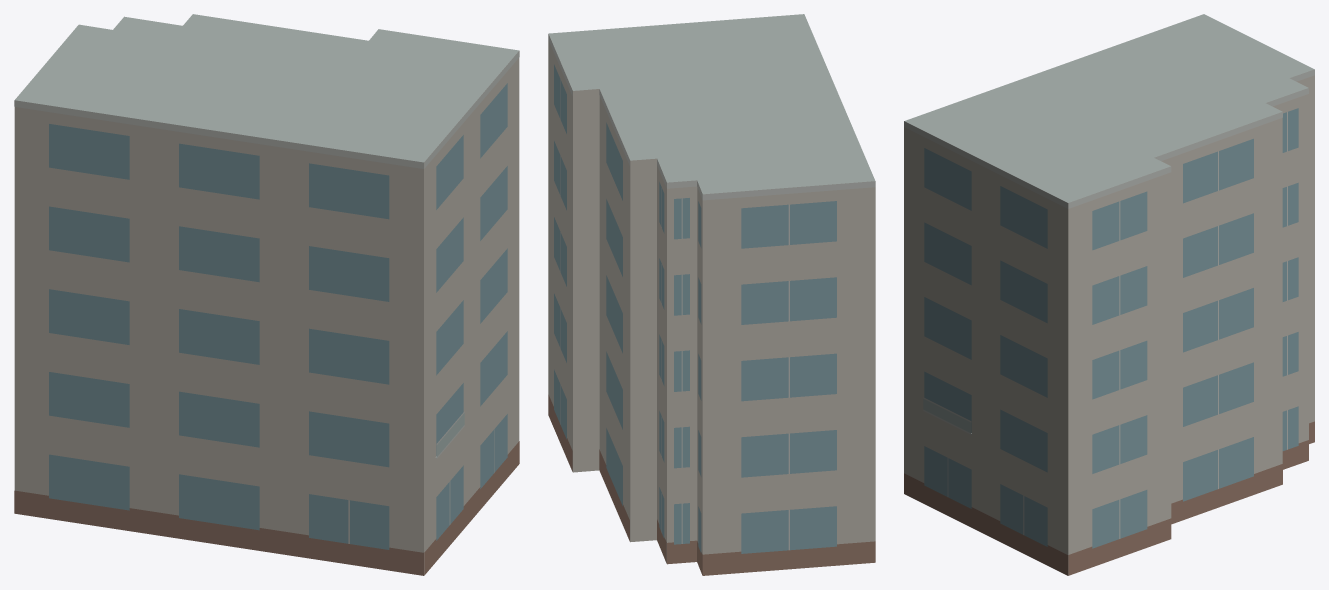
Rendered from survey-upis-32601094.glb.
3 views of the same model, side by side, from view 1: azimuth 30°, elevation 25°; view 2: azimuth 150°, elevation 25°; view 3: azimuth 270°, elevation 25° (orthographic). The views are drawn at different scales.
Parts seen in each view (by area): view 1: survey-upis-32601094.tmp; view 2: survey-upis-32601094.tmp; view 3: survey-upis-32601094.tmp.
Part boxes in pixels (<box>): survey-upis-32601094.tmp: <box>14,14,519,575</box>; survey-upis-32601094.tmp: <box>548,14,875,575</box>; survey-upis-32601094.tmp: <box>904,14,1314,575</box>.
Bounding box in the file's own units: 16.65 × 15.3 × 15.29.
